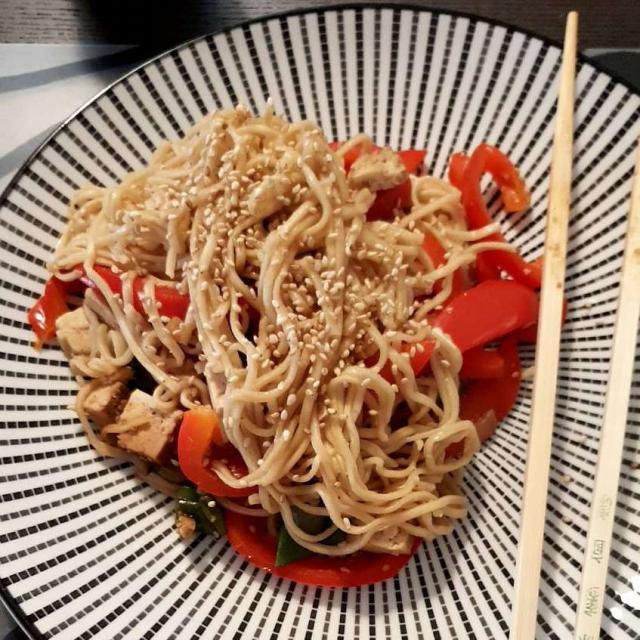bell-pepper-red-stewed-without-addition-of-fat-without-addition-of-salt: (32, 141, 536, 595)
sesame-seeds: (204, 162, 432, 384)
